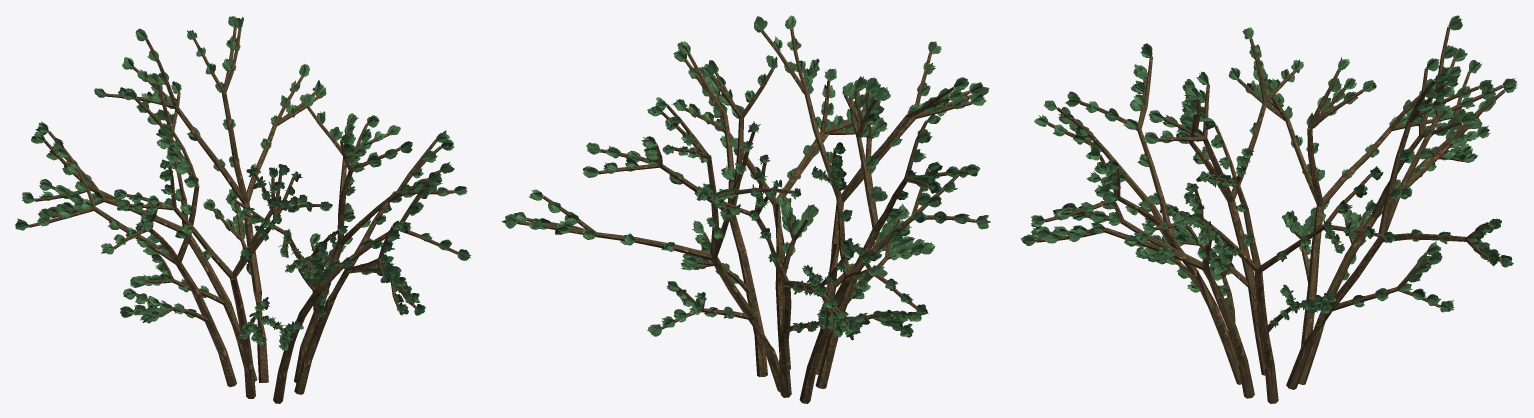
The model's file is alder_thicket_v01.fbx.
The picture shows the model from 3 angles, left to right: view 1: azimuth 30°, elevation 25°; view 2: azimuth 150°, elevation 25°; view 3: azimuth 270°, elevation 25°; orthographic projection. The views are drawn at different scales.
Visible parts, largest first — view 1: alder_thicket_v01; view 2: alder_thicket_v01; view 3: alder_thicket_v01.
Part boxes in pixels (x1=…): alder_thicket_v01: x1=15, y1=16, x2=470, y2=403; alder_thicket_v01: x1=501, y1=15, x2=990, y2=403; alder_thicket_v01: x1=1020, y1=15, x2=1517, y2=403.
Bounding box in the file's own units: 519 × 444 × 578.
